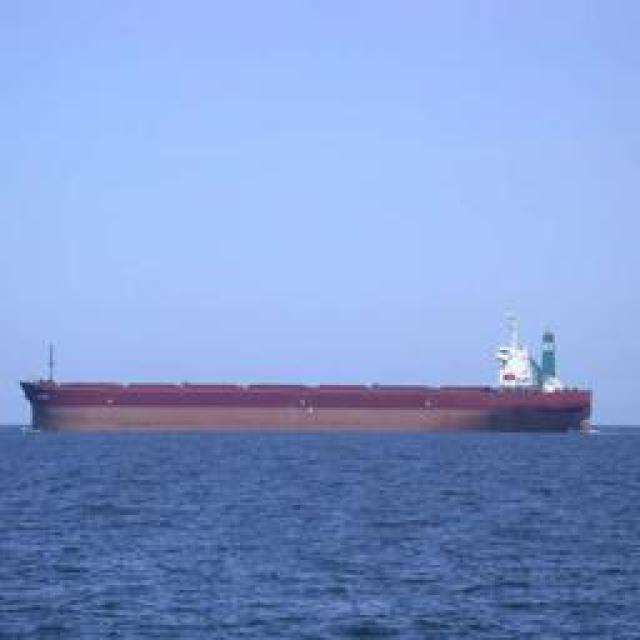Ship: (12, 303, 600, 439)
